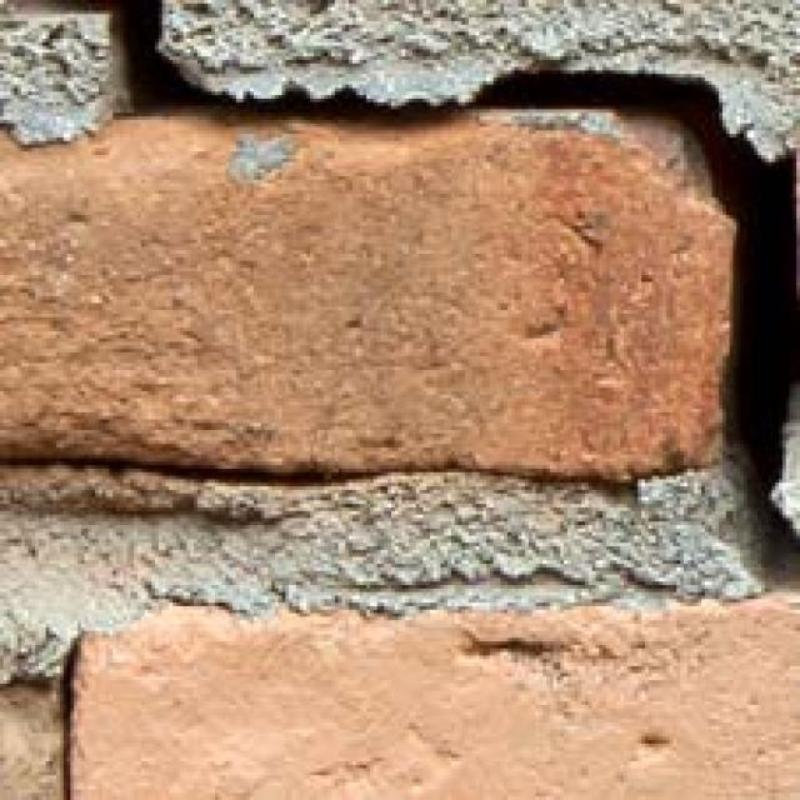pothole: (83, 0, 800, 574)
